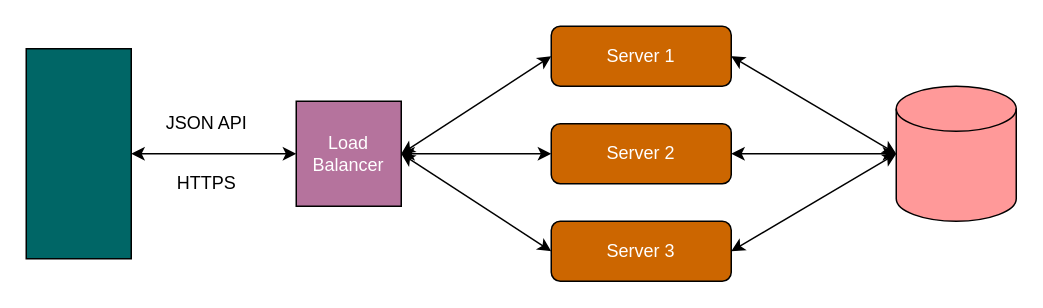
Image size: 1043x308. Some labels were removed from this diagram. The shapes that lost their labels are listed below. From the top down, each one's centre as x and y in pixels, then its label:
(x=78, y=153): Client Devices
(x=955, y=153): RDBMS
